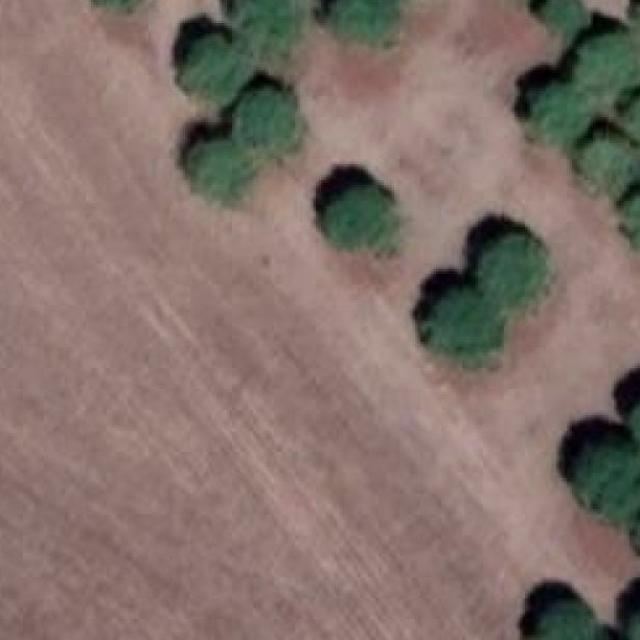Tree: (567, 431, 640, 509), (428, 282, 499, 361), (478, 232, 549, 303), (324, 185, 401, 246), (185, 141, 253, 207), (235, 89, 301, 152), (580, 26, 640, 92), (577, 135, 640, 195), (238, 0, 300, 60), (182, 37, 243, 94), (530, 81, 586, 139), (337, 0, 399, 46), (528, 600, 594, 640), (619, 185, 640, 264), (533, 0, 586, 28), (621, 384, 640, 446), (86, 0, 155, 17), (626, 96, 640, 162), (626, 603, 640, 640), (631, 503, 640, 556)
